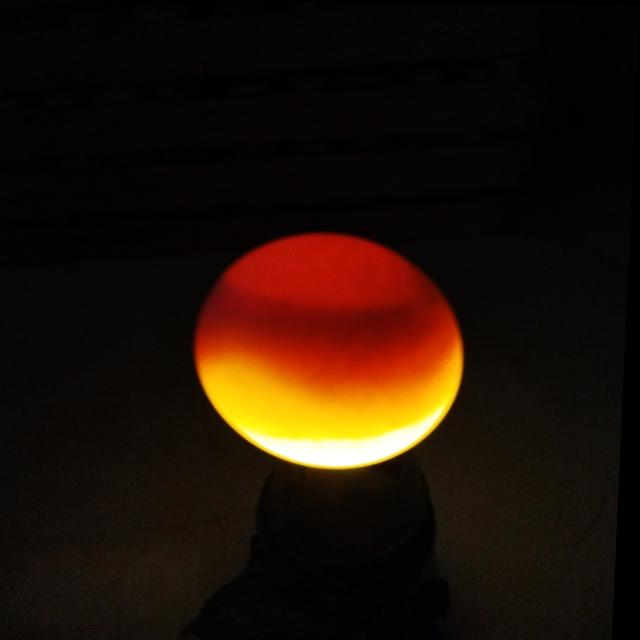Area Infectada: (280, 292, 444, 332)
